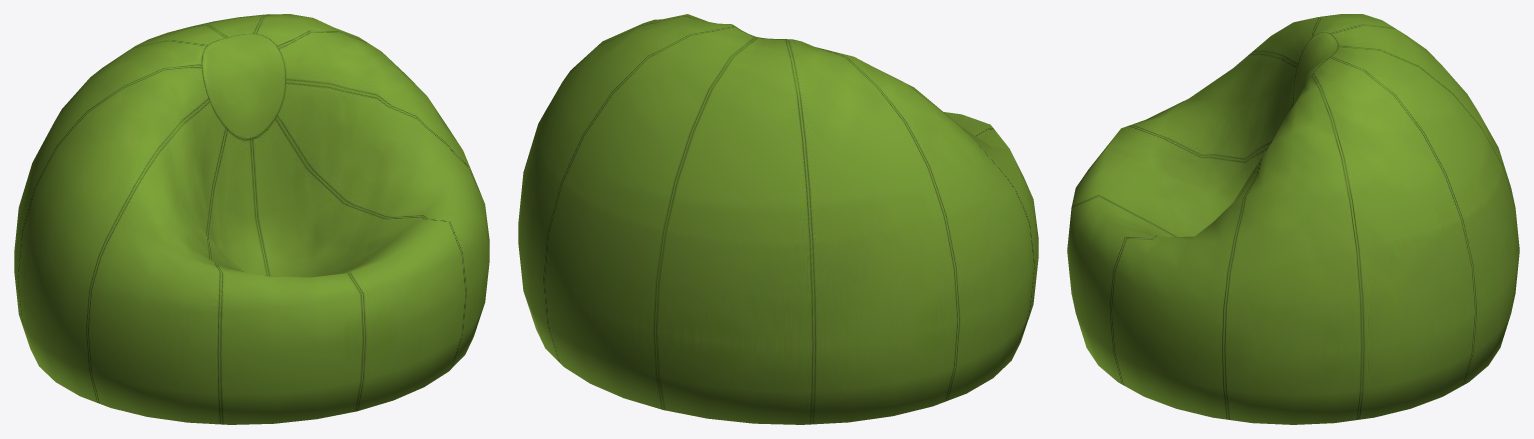
File: puff.obj
3 renders of one model, left to right at view 1: azimuth 30°, elevation 25°; view 2: azimuth 150°, elevation 25°; view 3: azimuth 270°, elevation 25°, orthographic. The views are drawn at different scales.
Parts seen in each view (by area): view 1: Sphere; view 2: Sphere; view 3: Sphere.
Part boxes in pixels (x1,y1,x2,y2): Sphere: (14,14,489,424); Sphere: (518,14,1038,424); Sphere: (1067,14,1519,424).
Size of the model in its own units: 91.35 by 60.27 by 84.82.
Materials: 1 (1 with a texture image).
